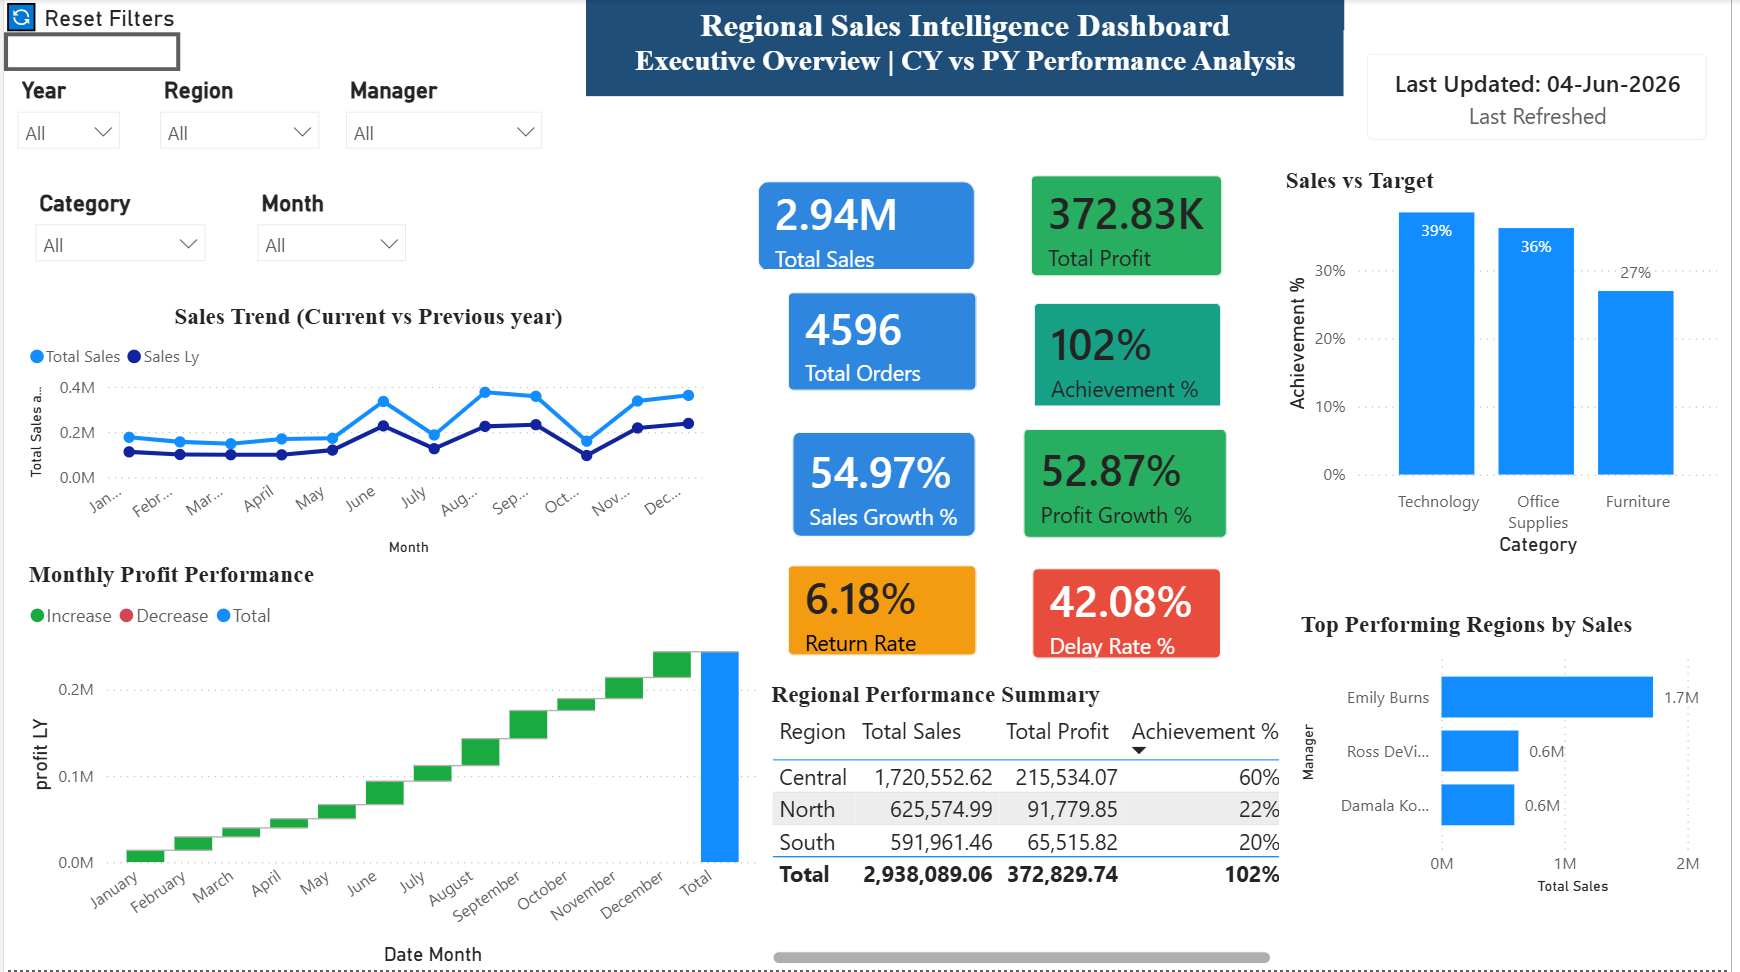

This screenshot's page, from the dashboard's own definition file:
{"tool":"powerbi","page":{"name":"Executive Overview","canvas":[1280,720],"ordinal":1},"visuals":[{"type":"lineChart","title":"Sales Trend (Current vs Previous year)","fields":{"Y":["Date.Total Sales","Date.Sales Ly"],"Category":["Date.Date.Variation.Date Hierarchy.Month"]},"box":[13.1,226,513.7,190.5],"z":0},{"type":"waterfallChart","title":"Monthly Profit Performance","fields":{"Category":["Date.Date.Variation.Date Hierarchy.Month"],"Y":["Date.profit LY"]},"box":[13.1,416.5,550.5,303.5],"z":1000},{"type":"barChart","title":"Top Performing Regions by Sales","fields":{"Category":["People.People"],"Y":["Date.Total Sales"]},"box":[956.4,453.2,317.9,214.1],"z":2000},{"type":"clusteredColumnChart","title":"Sales vs Target","fields":{"Category":["Fact_orders.Category"],"Y":["Date.Achievement %"]},"box":[944.6,124.8,329.7,291.6],"z":3000},{"type":"tableEx","title":"Regional Performance Summary","fields":{"Values":["Fact_orders.Region","Date.Total Sales","Date.Total Profit","Date.Achievement %"]},"box":[563.6,505.8,386.2,214.1],"z":4000},{"type":"cardVisual","fields":{"Data":["Date.Total Sales"]},"box":[541.3,118.2,195.7,101.2],"z":5000},{"type":"cardVisual","fields":{"Data":["Date.Total Profit"]},"box":[743.6,113,176,109],"z":6000},{"type":"cardVisual","fields":{"Data":["Date.Achievement %"]},"box":[746.2,207.6,173.4,115.6],"z":7000},{"type":"cardVisual","fields":{"Data":["Date.Sales Growth %"]},"box":[567.5,303.5,170.8,113],"z":8000},{"type":"cardVisual","fields":{"Data":["Date.Return Rate"]},"box":[563.6,402,174.7,101.2],"z":9000},{"type":"cardVisual","fields":{"Data":["Fact_orders.Delay Rate %"]},"box":[744.9,404.6,174.7,101.2],"z":10000},{"type":"cardVisual","fields":{"Data":["Date.Total Orders"]},"box":[563.6,199.7,174.7,107.7],"z":11000},{"type":"cardVisual","fields":{"Data":["Date.Profit Growth %"]},"box":[738.3,300.8,185.2,115.6],"z":12000},{"type":"textbox","box":[430.9,0,562.3,72.3],"z":13000},{"type":"slicer","fields":{"Values":["Fact_orders.Region"]},"box":[105.1,52.5,137.9,69.6],"z":14000},{"type":"slicer","fields":{"Values":["Fact_orders.Category"]},"box":[13.1,135.3,145.8,78.8],"z":15000},{"type":"slicer","fields":{"Values":["Date.Date.Variation.Date Hierarchy.Year"]},"box":[0,52.5,95.9,90.6],"z":16000},{"type":"slicer","fields":{"Values":["People.Manager"]},"box":[243,52.5,165.5,72.3],"z":17000},{"type":"slicer","fields":{"Values":["Date.Date.Variation.Date Hierarchy.Month"]},"box":[177.4,135.3,130.1,64.4],"z":18000},{"type":"cardVisual","fields":{"Data":["Date.Last Refreshed"]},"box":[993.2,23.6,286.4,98.5],"z":19000},{"type":"actionButton","title":"🔄 Reset Filters","box":[0,0,130.6,53.2],"z":20000}]}

Visuals, with their boxes in screenshot pixels (x1, y1, x2, y2), scaled from the page's 1280x720 canvas onto the 1740x972 screenshot:
"Sales Trend (Current vs Previous year)" lineChart: box(18, 305, 716, 562)
"Monthly Profit Performance" waterfallChart: box(18, 562, 766, 971)
"Top Performing Regions by Sales" barChart: box(1300, 612, 1732, 901)
"Sales vs Target" clusteredColumnChart: box(1284, 168, 1732, 562)
"Regional Performance Summary" tableEx: box(766, 683, 1291, 971)
cardVisual - Date.Total Sales: box(736, 160, 1002, 296)
cardVisual - Date.Total Profit: box(1011, 153, 1250, 300)
cardVisual - Date.Achievement %: box(1014, 280, 1250, 436)
cardVisual - Date.Sales Growth %: box(771, 410, 1004, 562)
cardVisual - Date.Return Rate: box(766, 543, 1004, 679)
cardVisual - Fact_orders.Delay Rate %: box(1013, 546, 1250, 683)
cardVisual - Date.Total Orders: box(766, 270, 1004, 415)
cardVisual - Date.Profit Growth %: box(1004, 406, 1255, 562)
textbox: box(586, 0, 1350, 98)
slicer - Fact_orders.Region: box(143, 71, 330, 165)
slicer - Fact_orders.Category: box(18, 183, 216, 289)
slicer - Date.Date.Variation.Date Hierarchy.Year: box(0, 71, 130, 193)
slicer - People.Manager: box(330, 71, 555, 168)
slicer - Date.Date.Variation.Date Hierarchy.Month: box(241, 183, 418, 270)
cardVisual - Date.Last Refreshed: box(1350, 32, 1739, 165)
"🔄 Reset Filters" actionButton: box(0, 0, 178, 72)
